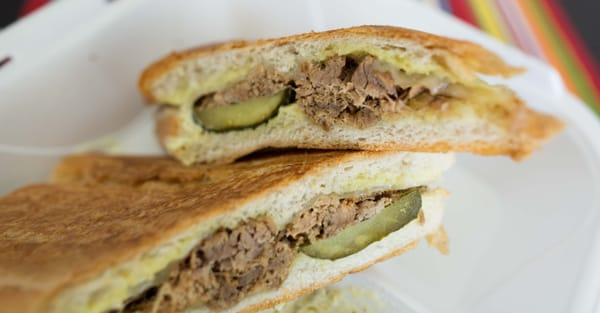soup: (2, 147, 455, 310), (138, 24, 562, 169)
